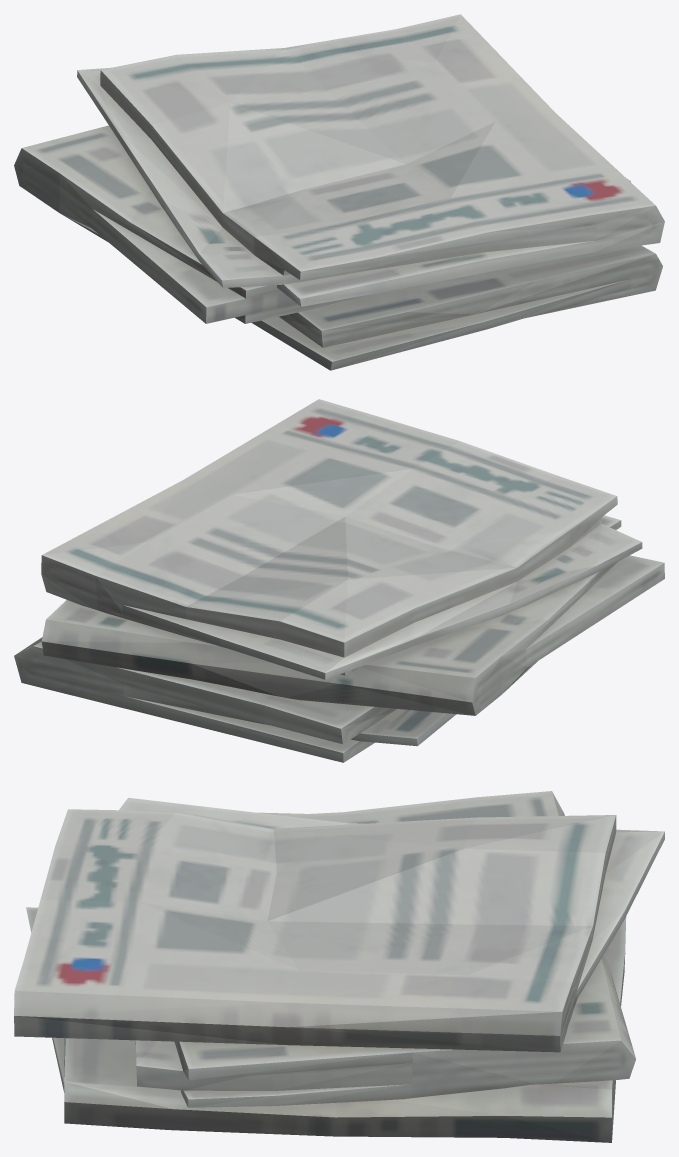
File: P_Newspaper_007_S1_M01.obj
3 renders of one model, top to bottom at view 1: azimuth 30°, elevation 25°; view 2: azimuth 150°, elevation 25°; view 3: azimuth 270°, elevation 25°, orthographic. The views are drawn at different scales.
Size of the model in its own units: 0.5424 by 0.1432 by 0.5895.
Materials: 1 (1 with a texture image).
